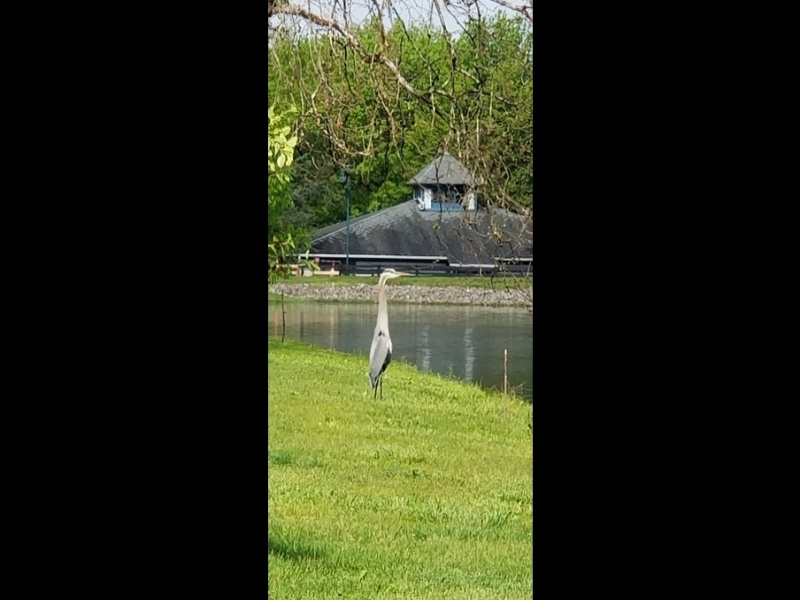heron: (364, 263, 415, 399)
